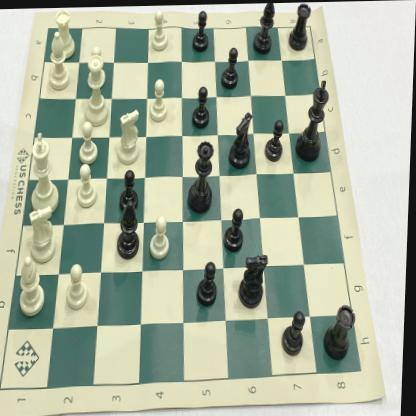black-bishop: (118, 198, 144, 258), (252, 3, 276, 54)
black-king: (296, 77, 332, 162)
black-knight: (240, 250, 272, 310), (230, 111, 254, 170)
black-pawn: (282, 310, 310, 358), (196, 260, 222, 308), (224, 205, 247, 254), (120, 166, 142, 214), (264, 119, 287, 162), (191, 83, 212, 128), (220, 44, 240, 88), (192, 7, 210, 52)
black-queen: (187, 136, 217, 213)
black-rook: (324, 302, 360, 362), (288, 2, 312, 52)
white-bishop: (18, 254, 49, 315), (47, 28, 72, 90)
white-king: (29, 129, 62, 215)
white-knight: (27, 204, 59, 262), (116, 108, 144, 165)
white-pawn: (66, 260, 92, 311), (76, 162, 100, 207), (77, 118, 101, 162), (151, 213, 173, 260), (150, 76, 171, 122), (150, 7, 171, 52), (88, 44, 108, 85)
white-queen: (80, 53, 114, 126)
white-rook: (52, 6, 78, 58)
